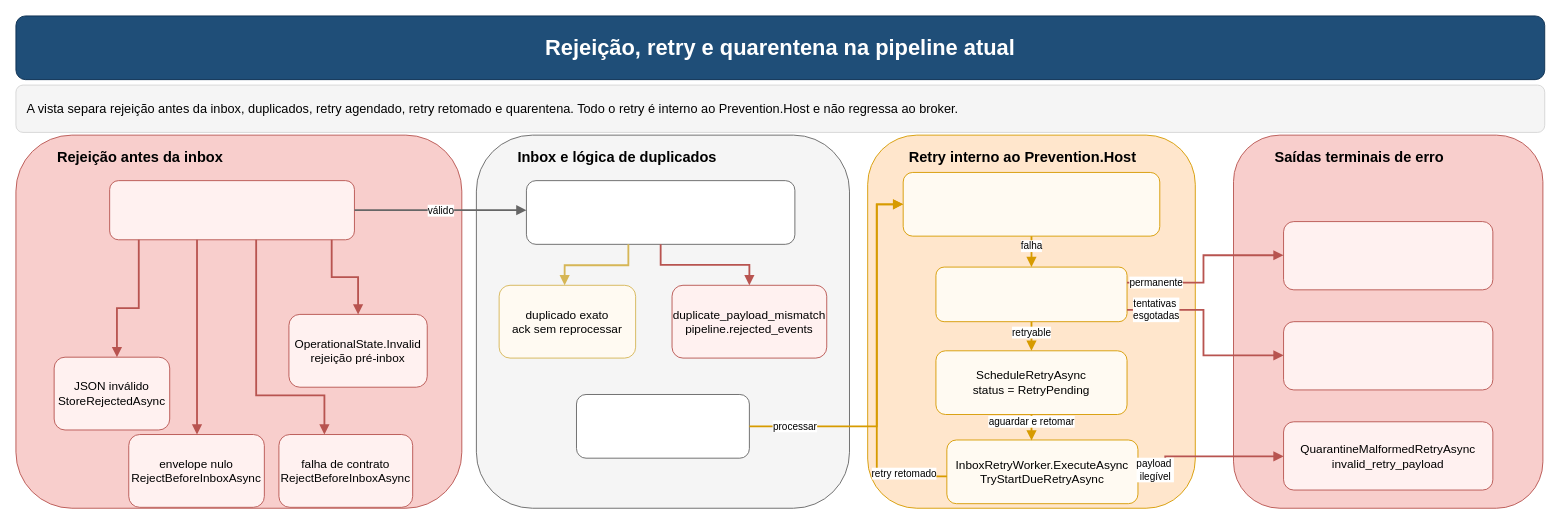
This 1561x524 diagram has some shape labels left out. Each missing label, with the centre of its shape:
"DefaultProcessingFailureClassifier" goes at (1031,294).
"novo evento lease de processamento" goes at (662,426).
"PostgresReadingEventInbox.StoreIncomingAsync" goes at (660,212).
"PreventionWorker.HandleReceivedAsync" goes at (231,210).
"QuarantineProcessingAsync permanent_failure" goes at (1388,255).
"QuarantineProcessingAsync retries_exhausted" goes at (1388,355).
"ReadingEventProcessingService.ProcessAsync" goes at (1031,204).
